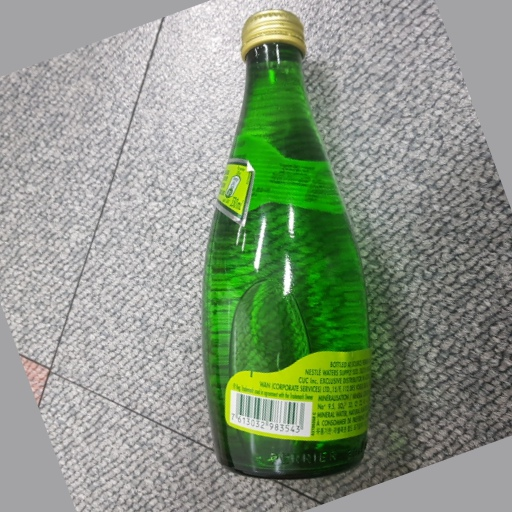Glass_4: (198, 9, 371, 475)
